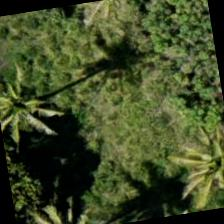Kelapa_Sawit: (0, 49, 65, 148), (166, 130, 223, 215)
